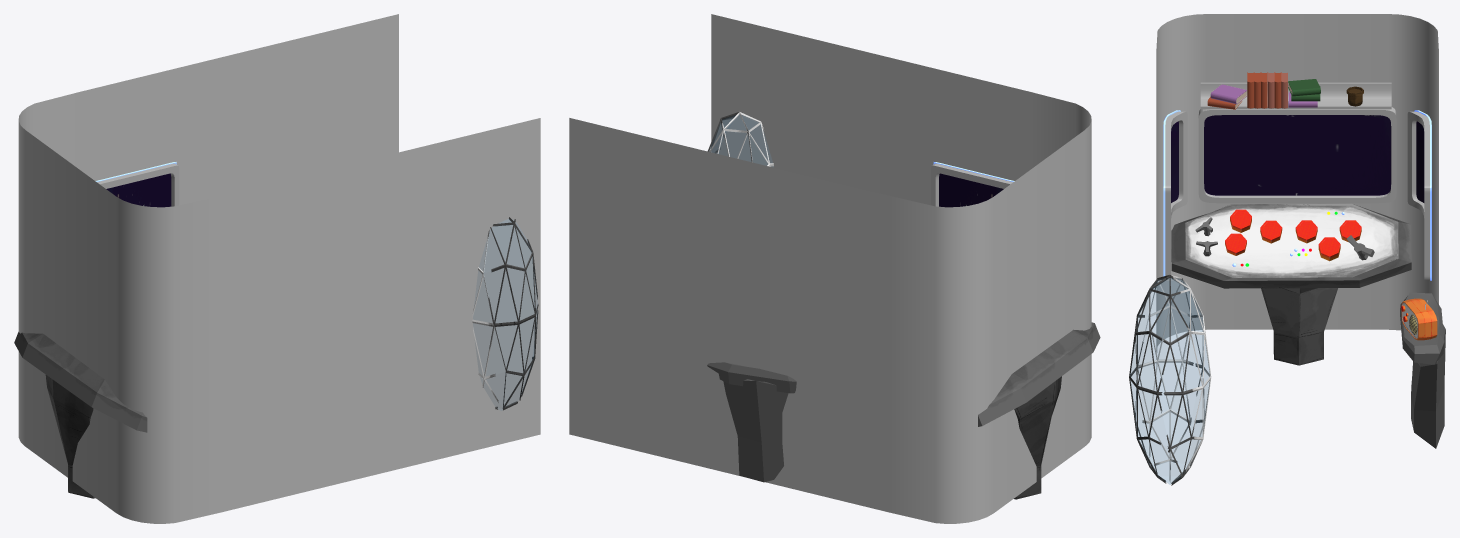
The model's file is scene_niveau_1_V1_sans_planes.fbx.
3 renders of one model, left to right at view 1: azimuth 30°, elevation 25°; view 2: azimuth 150°, elevation 25°; view 3: azimuth 270°, elevation 25°, orthographic.
Parts seen in each view (by area): view 1: mur, arbre, board, fenetre cote; view 2: mur, board, radio_socle, fenetre cote, arbre; view 3: mur, board, fenetre milieu, arbre, fenetre cote, radio_socle, etagere, radio, livre.001, livre.010.
Part boxes in pixels (box(x1,y1,x2,y2)): mur: box(18, 14, 540, 523); arbre: box(472, 217, 538, 410); board: box(14, 332, 147, 498); fenetre cote: box(95, 162, 179, 207); mur: box(569, 14, 1091, 523); board: box(978, 322, 1100, 499); radio_socle: box(707, 362, 796, 482); fenetre cote: box(931, 162, 1014, 207); arbre: box(707, 111, 773, 166); mur: box(1156, 14, 1438, 363); board: box(1171, 203, 1411, 365); fenetre milieu: box(1198, 107, 1396, 203); arbre: box(1129, 274, 1211, 485); fenetre cote: box(1163, 110, 1431, 280); radio_socle: box(1400, 292, 1445, 448); etagere: box(1200, 82, 1391, 109); radio: box(1401, 298, 1437, 340); livre.001: box(1210, 84, 1246, 104); livre.010: box(1288, 79, 1320, 96).
Size of the model in its own units: 510 by 385 by 337.
